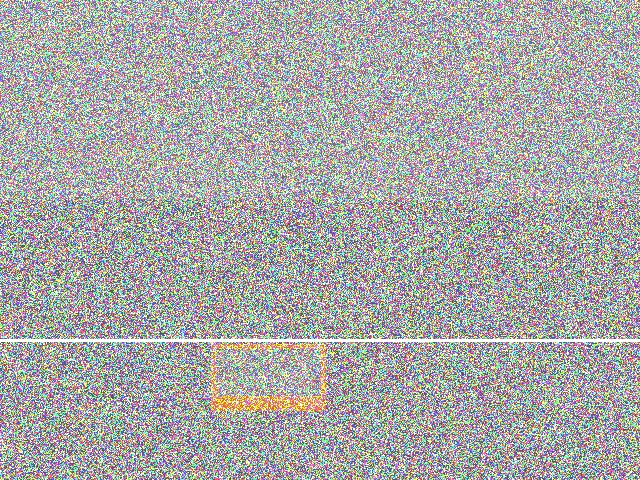bus: (48, 243, 137, 371)
car: (450, 188, 619, 331)
truck: (467, 213, 605, 270)
